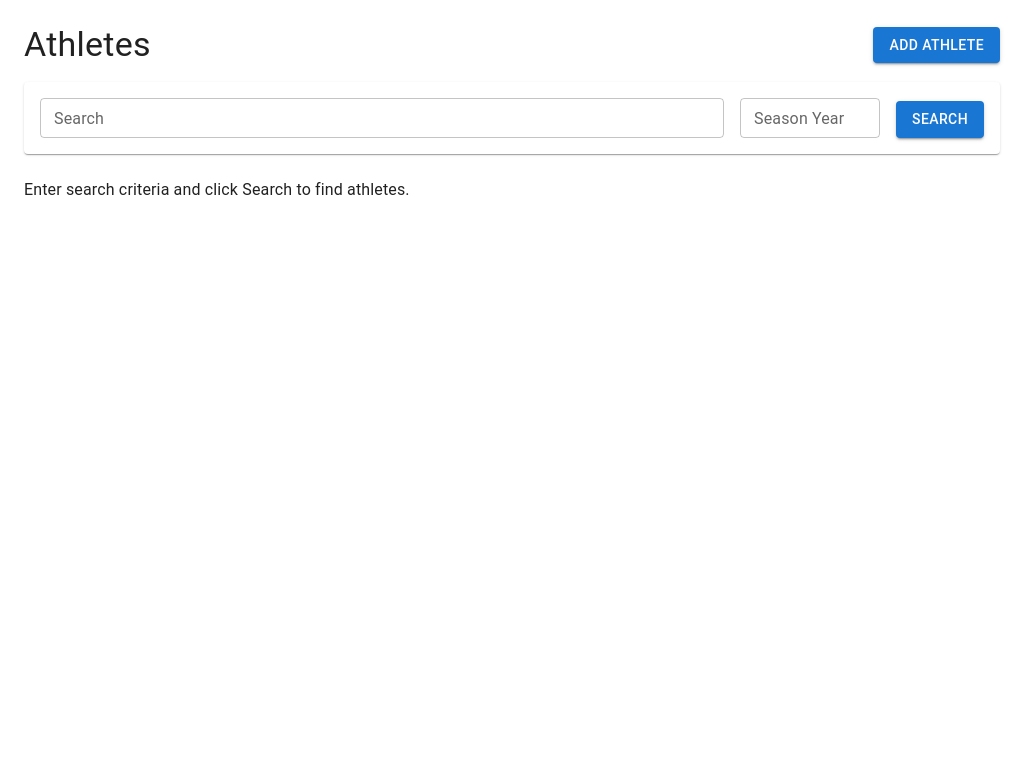
Athletes Page › Add Athlete dialog › should show error when create request fails
Click the button "Add Athlete". click: point(937, 45)
box: [874,27,1000,63]
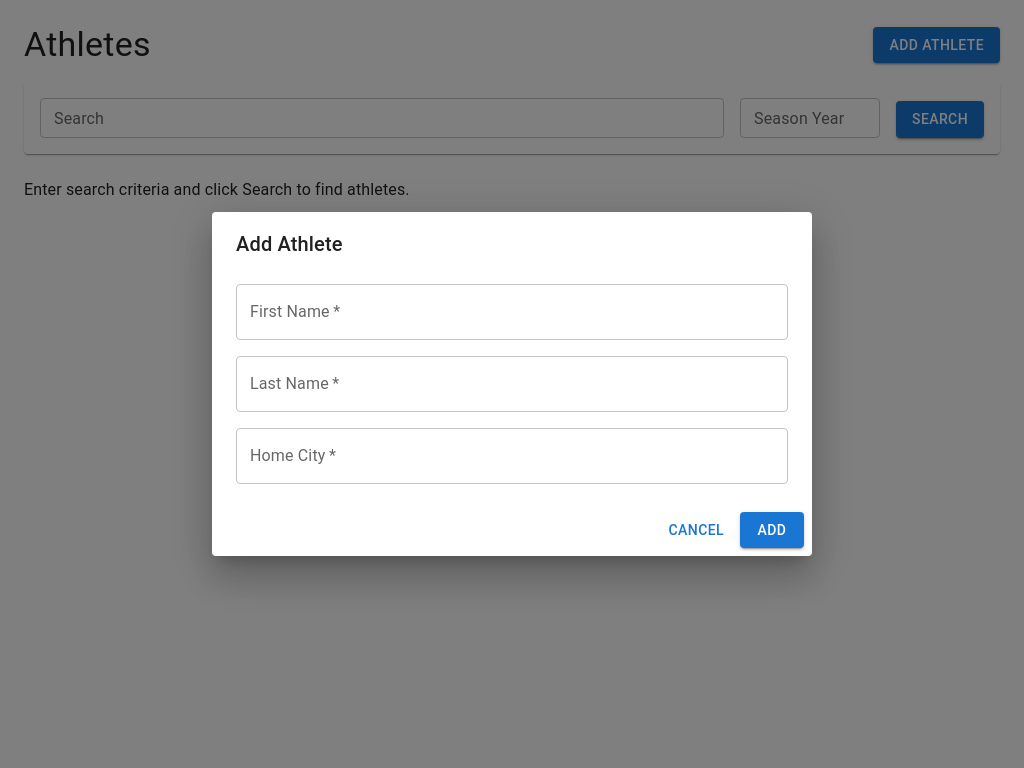
Type "Jordan" into the field labelled "First Name *". click: point(512, 312)
box: [236,284,788,340]
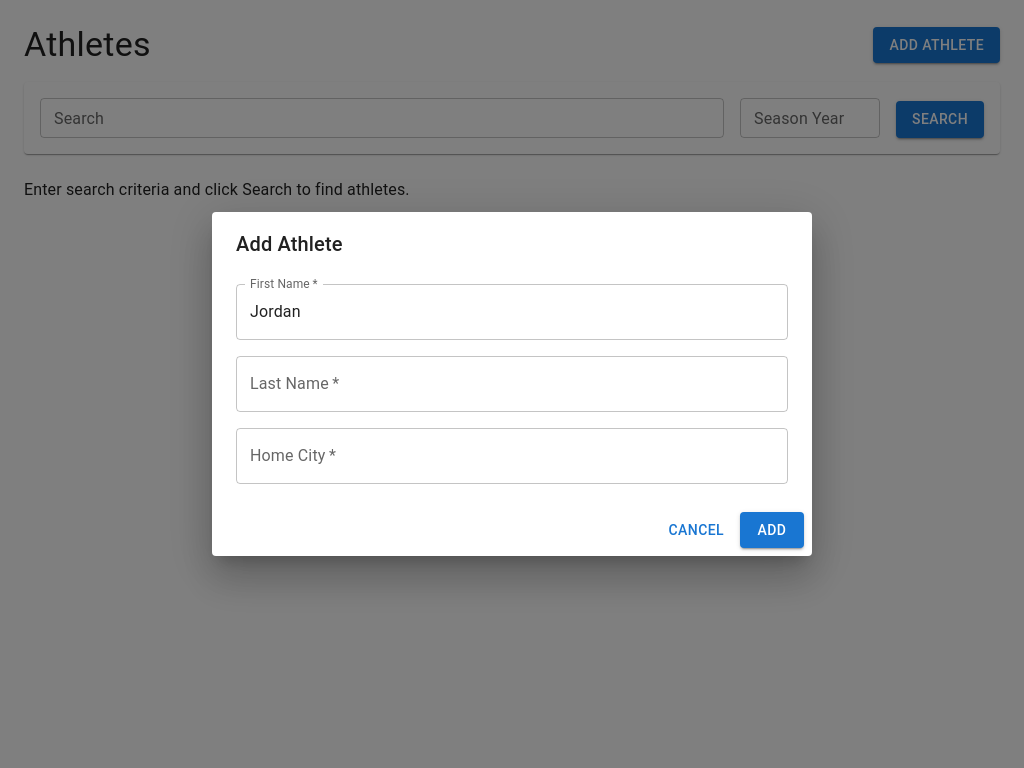
Type "Smith" into the field labelled "Last Name *". click: point(512, 384)
box: [236,356,788,412]
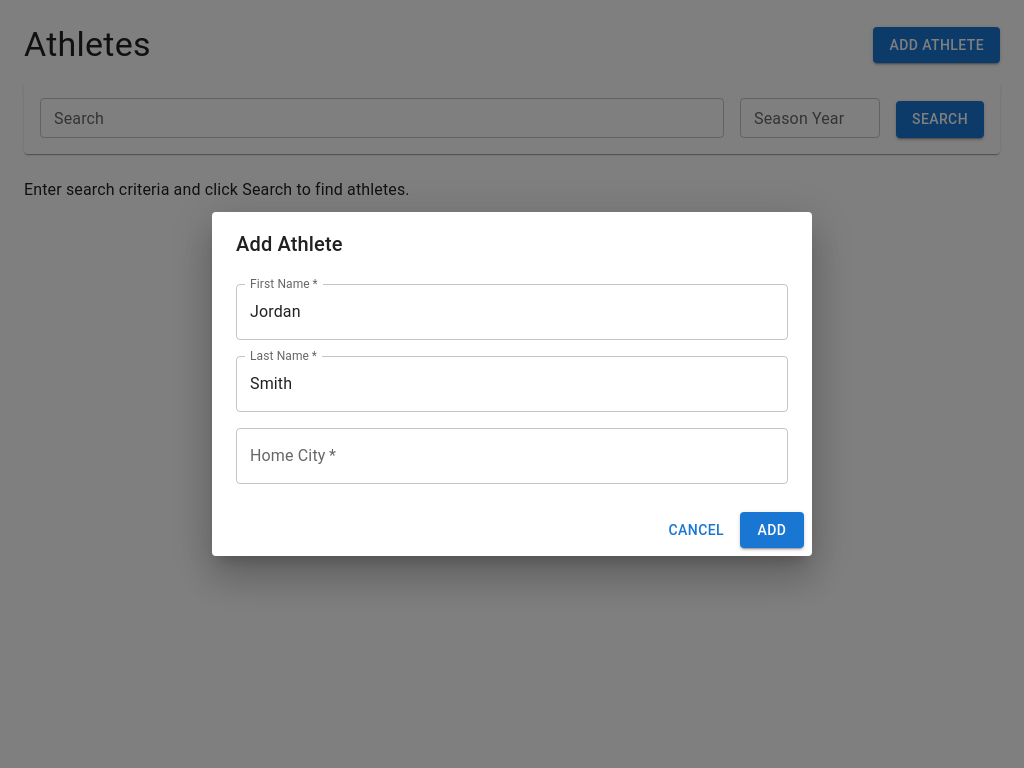
Type "Austin" into the field labelled "Home City *". click: point(512, 456)
box: [236,428,788,484]
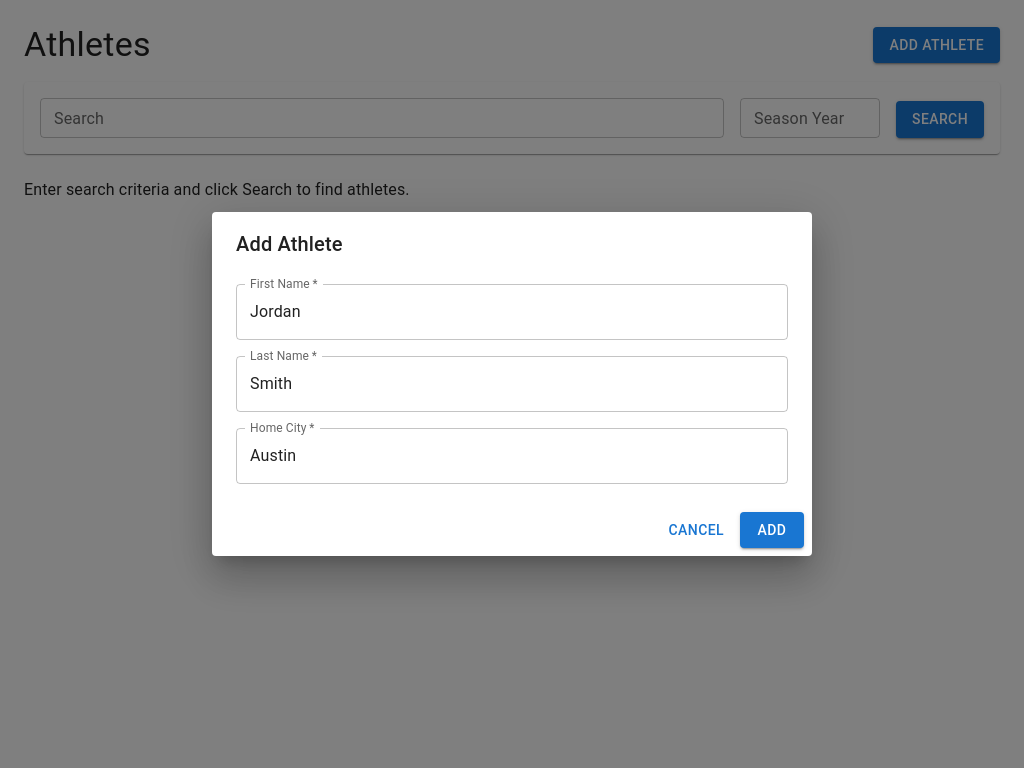
Click the button "Add". click: point(772, 530)
box: [740,512,804,548]
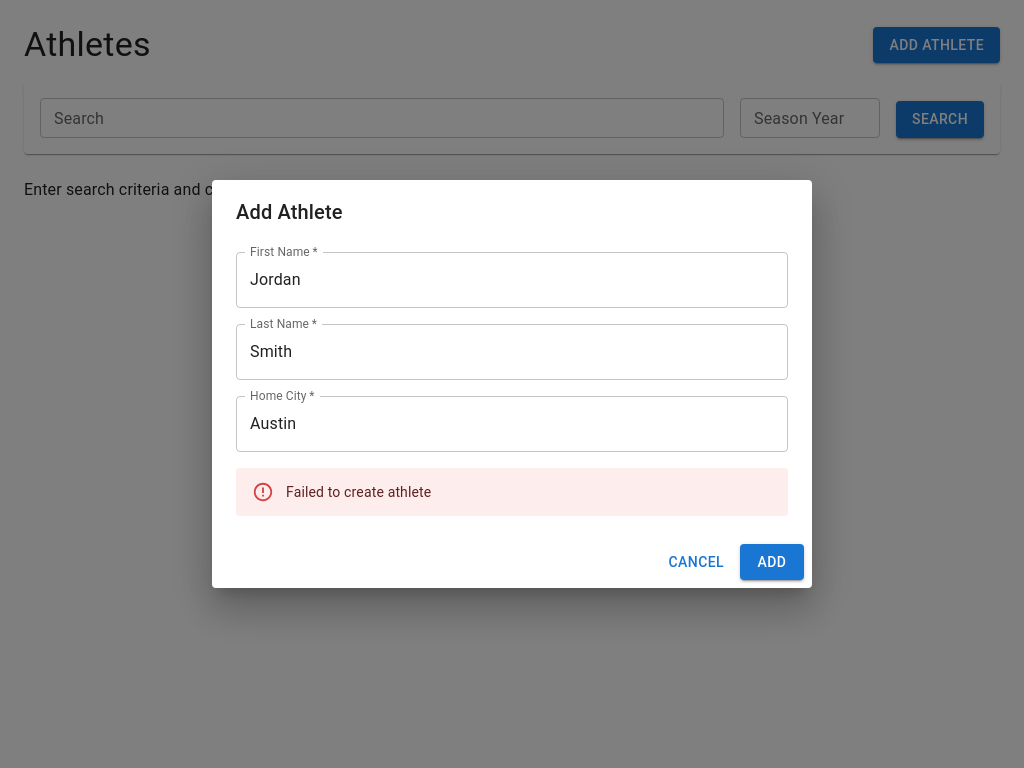
Expected: the text "Failed to create athlete" is shown, [286,484,431,500]
